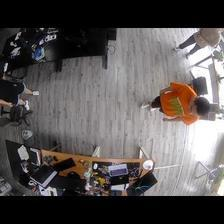normal: (141, 82, 208, 125), (1, 77, 40, 110)
